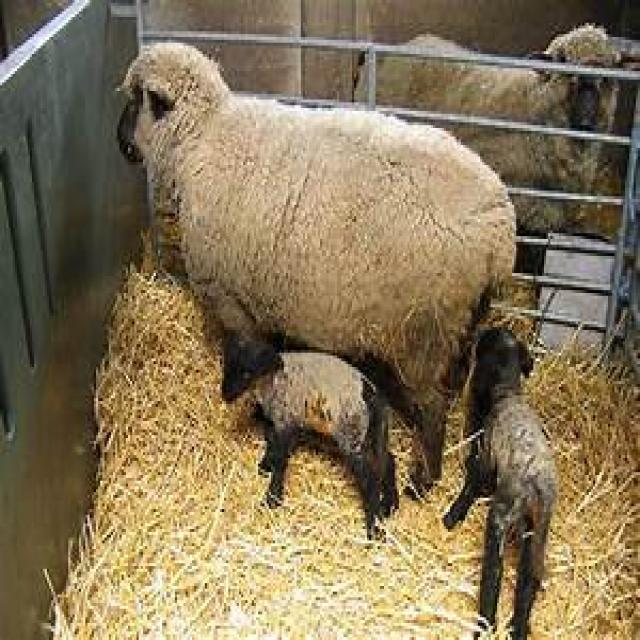animal: (124, 32, 514, 480), (367, 23, 624, 236), (216, 329, 400, 526), (450, 326, 552, 639)
